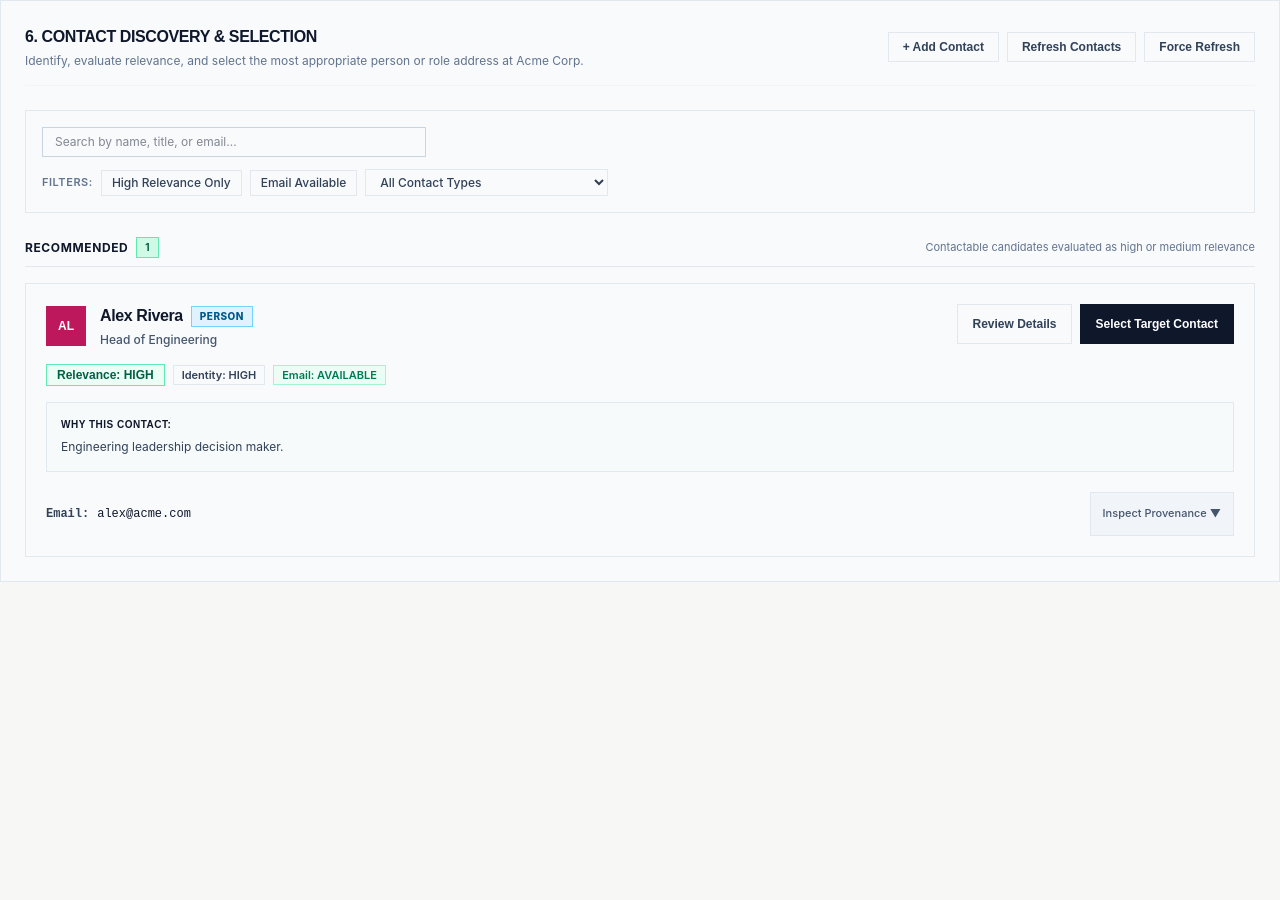
ContactDiscoveryWorkspace Component - UX-004 Contact Discovery & Selection › displays warning alert when campaign binding encounters an error
Click the button "Select Target Contact" at (1157, 324), box [1080,304,1234,344]
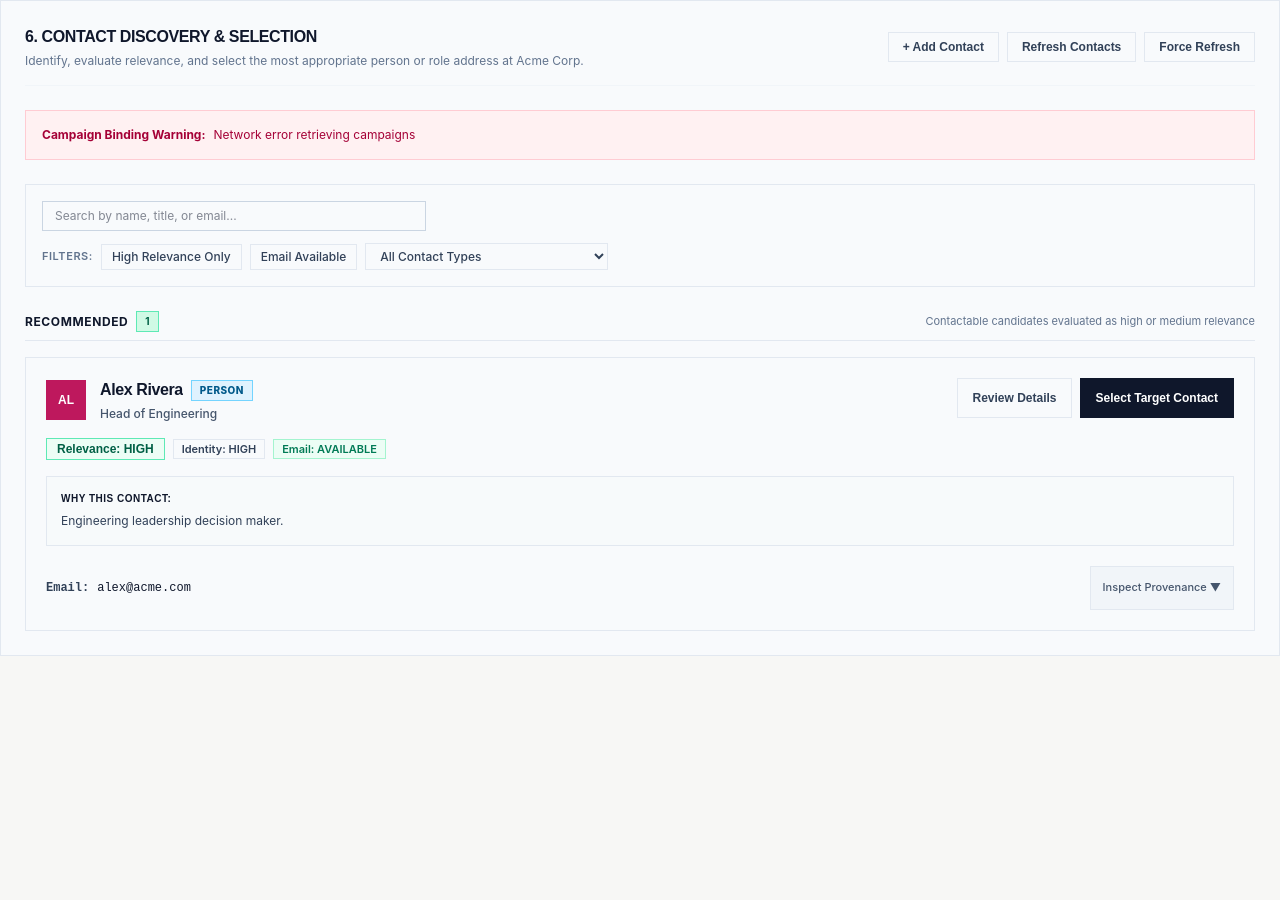
Result: the message shows "Campaign Binding Warning:" at [42,127,206,142]
Result: the message shows "Network error retrieving campaigns" at [214,127,415,142]
